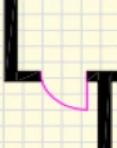door: (35, 62, 95, 117)
